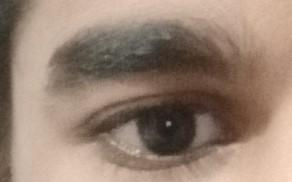open: (74, 89, 245, 172)
